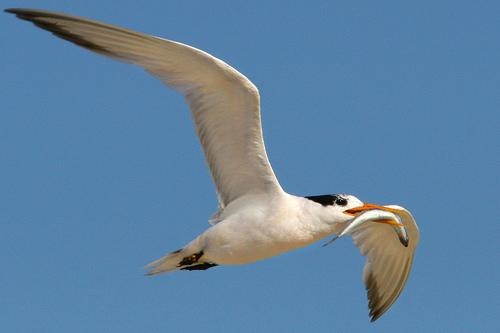bird: (10, 7, 421, 320)
